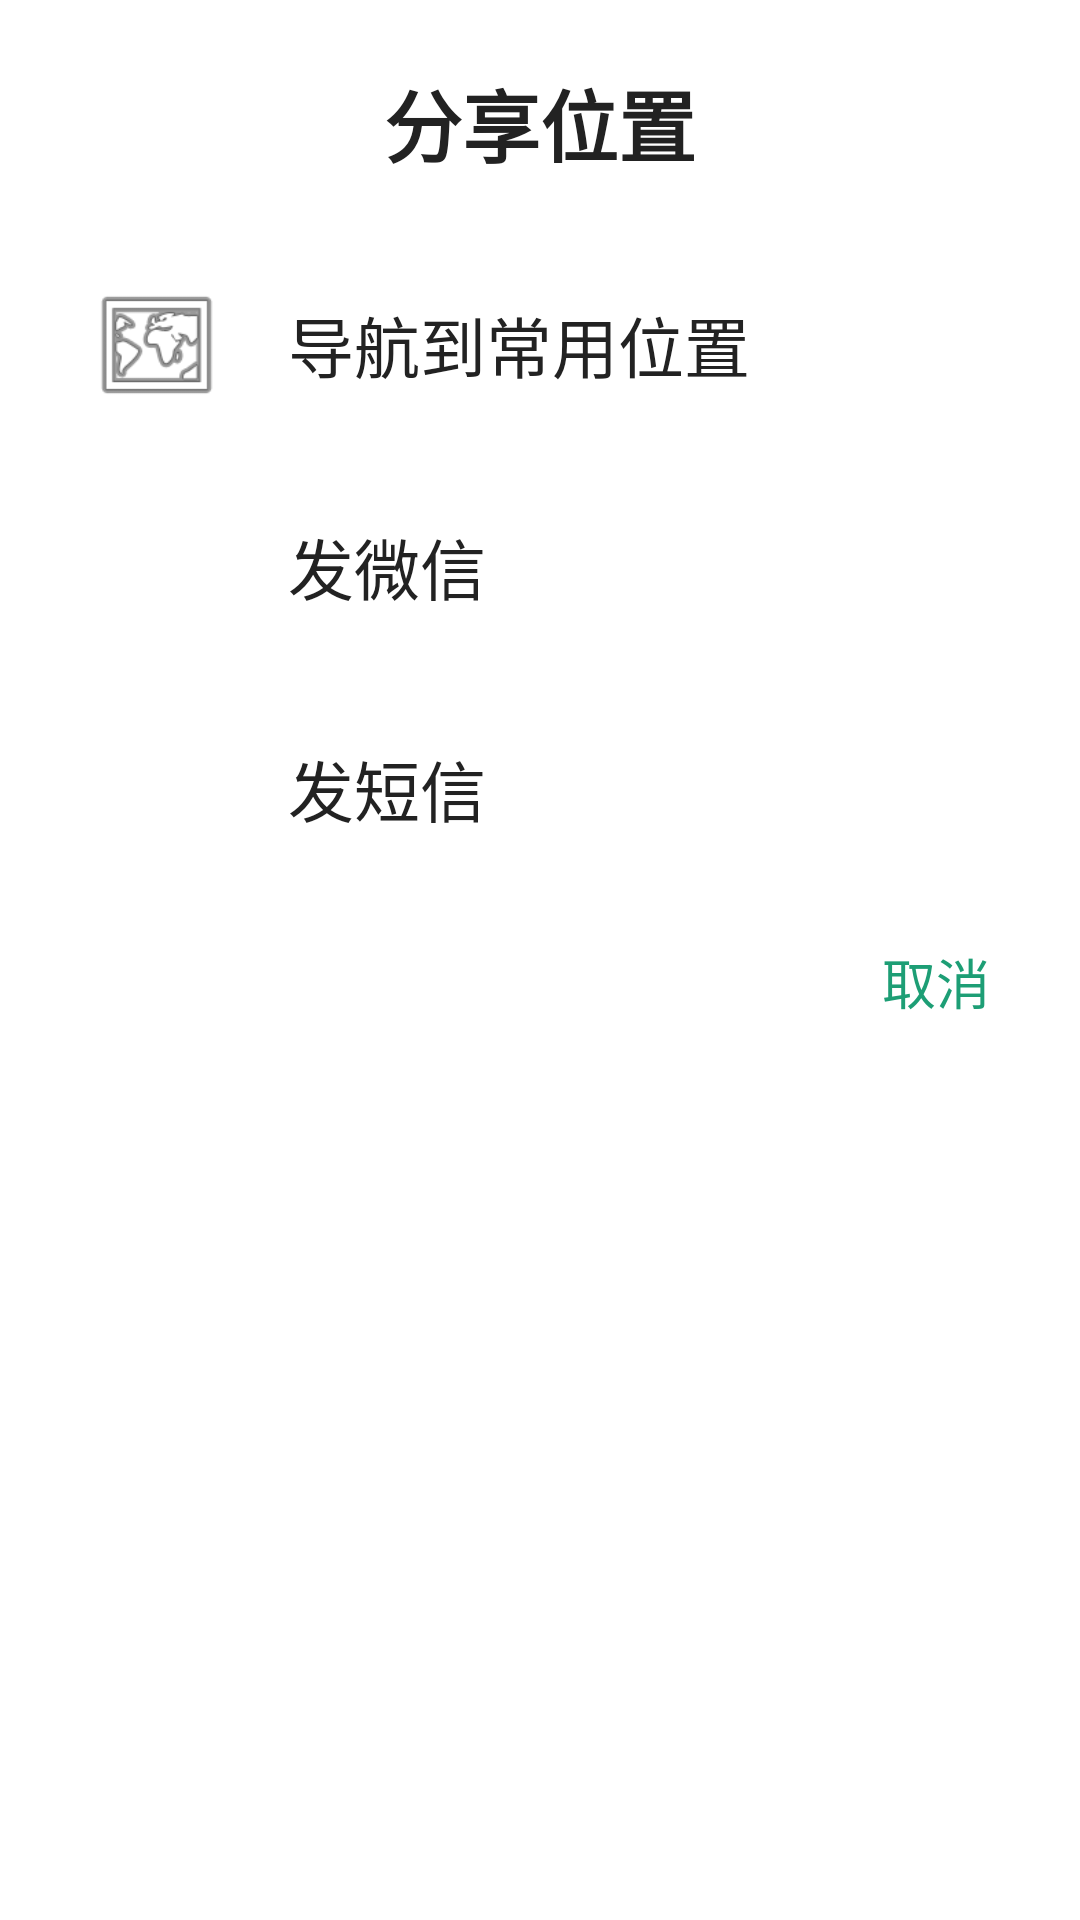

Icon click points for this 1080 x 1920 phone screenshot, format (x,y):
导航图标: (156,345)
